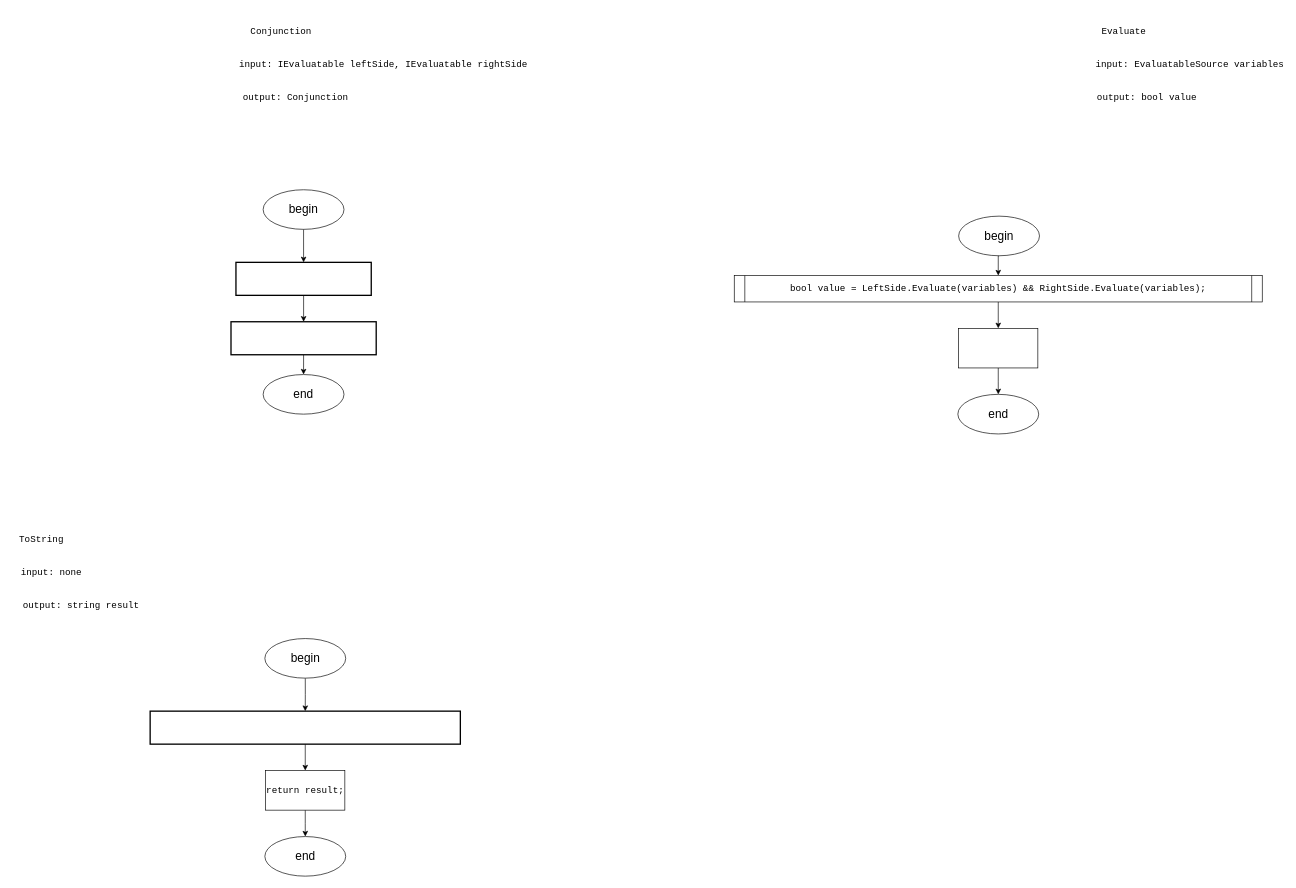
Some shapes in this 1296 by 888 pixel diagram are drawn without their labels. Here are the shapes that lost their labels. From the top down, the centre of each, then its label:
point 303,278: LeftSide = leftSide ;
point 303,338: RightSide = rightSide ;
point 998,348: return value;
point 305,727: string result = $"( {LeftSide} & {RightSide} )" ;
